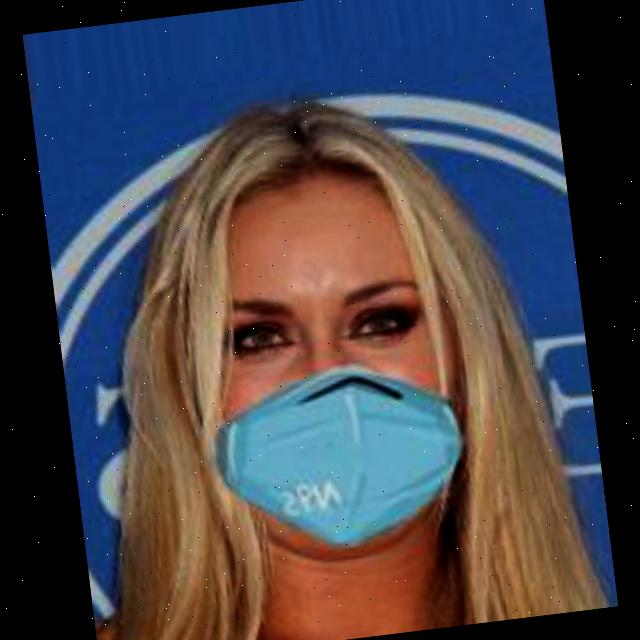suspicion: (79, 80, 525, 580)
